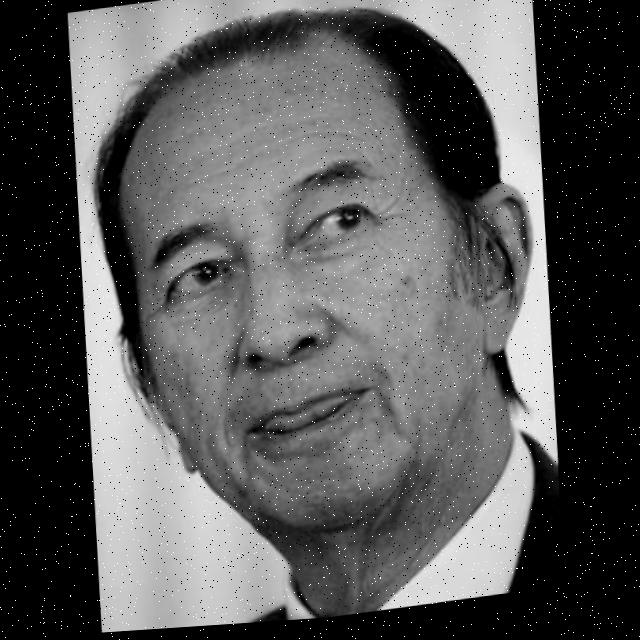face: (88, 7, 547, 585)
